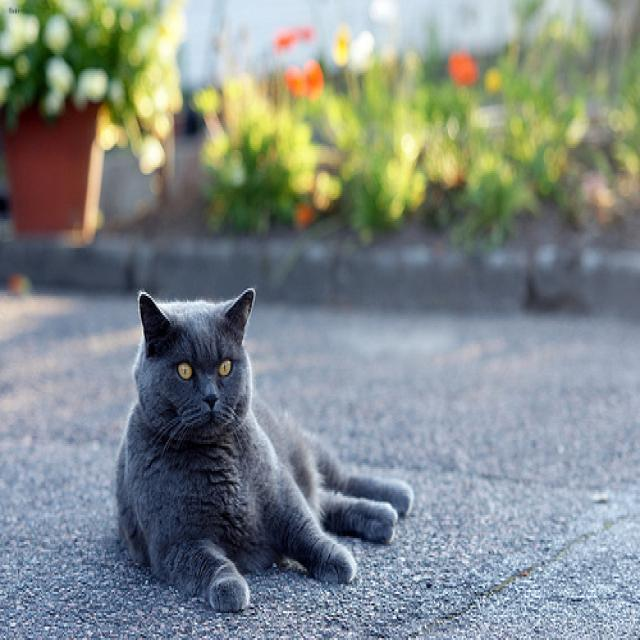British_Shorthair: (137, 285, 253, 439)
